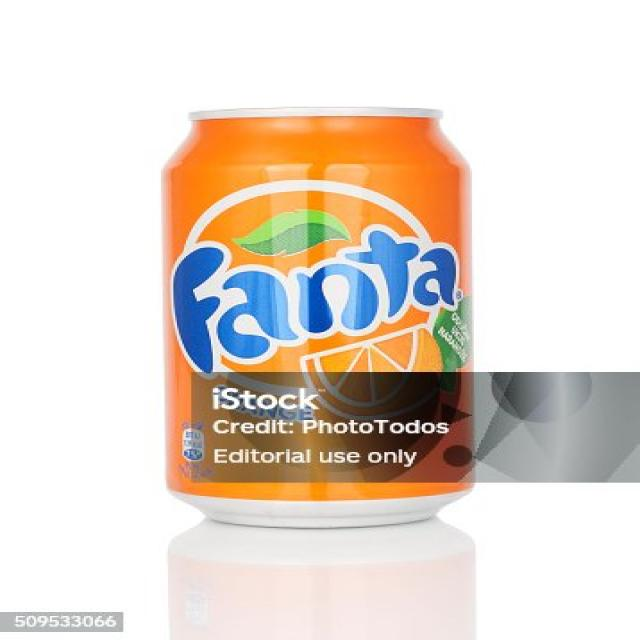fanta: (162, 106, 480, 523)
